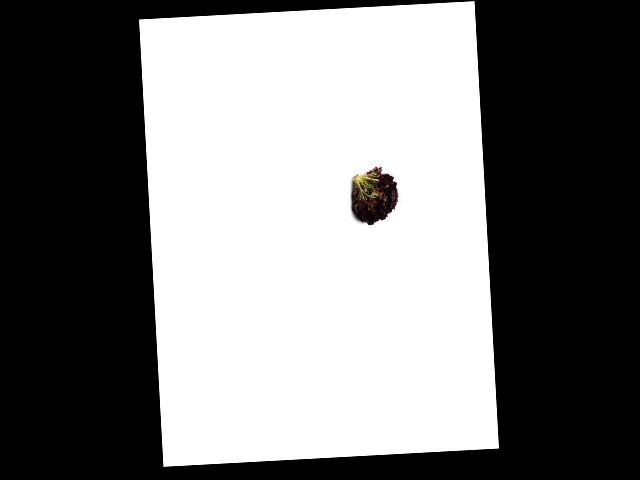lettuce: (346, 168, 401, 228)
